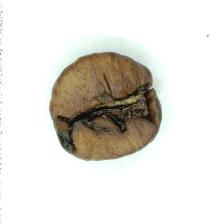NG: (52, 85, 152, 156)
